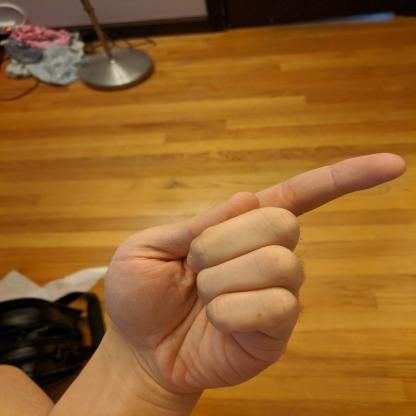G: (96, 147, 416, 397)
